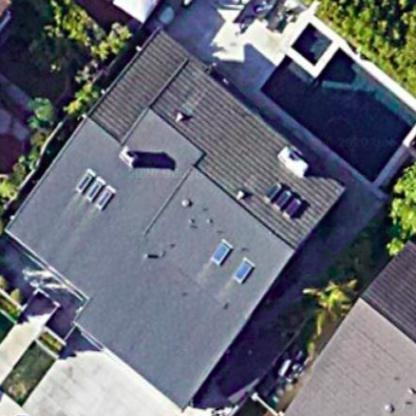swimming_pool: (249, 6, 416, 187)
